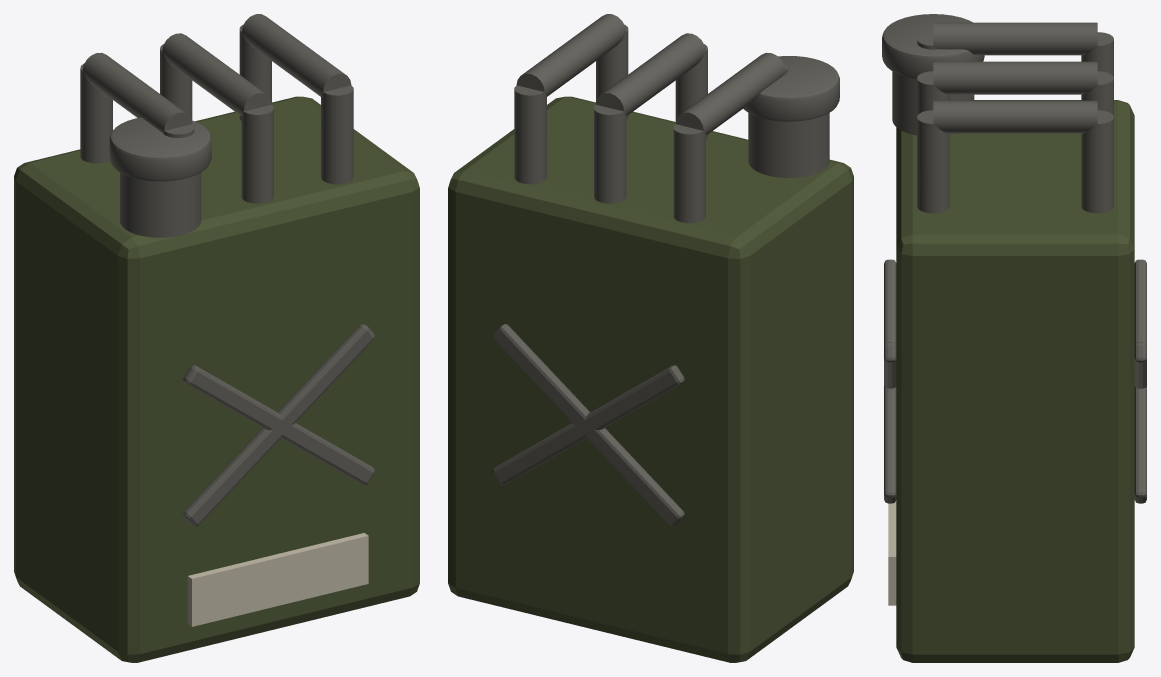
Rendered from canister.glb.
The picture shows the model from 3 angles, left to right: view 1: azimuth 30°, elevation 25°; view 2: azimuth 150°, elevation 25°; view 3: azimuth 270°, elevation 25°; orthographic projection.
Parts seen in each view (by area): view 1: CANISTER_Body, CANISTER_Label, CANISTER_Braces, CANISTER_Handle_2, CANISTER_Handle_1, CANISTER_Handle_0, CANISTER_Cap, CANISTER_Neck; view 2: CANISTER_Body, CANISTER_Braces, CANISTER_Handle_2, CANISTER_Handle_1, CANISTER_Handle_0, CANISTER_Neck, CANISTER_Cap; view 3: CANISTER_Body, CANISTER_Handle_2, CANISTER_Handle_1, CANISTER_Handle_0, CANISTER_Braces, CANISTER_Cap, CANISTER_Neck, CANISTER_Label.
Boxes of the visible parts, bbox=[...] form: CANISTER_Body: bbox=[14, 96, 419, 662]; CANISTER_Label: bbox=[187, 533, 368, 626]; CANISTER_Braces: bbox=[183, 324, 375, 526]; CANISTER_Handle_2: bbox=[239, 14, 353, 184]; CANISTER_Handle_1: bbox=[160, 33, 273, 203]; CANISTER_Handle_0: bbox=[80, 52, 194, 163]; CANISTER_Cap: bbox=[109, 117, 211, 181]; CANISTER_Neck: bbox=[120, 172, 201, 237]; CANISTER_Body: bbox=[448, 96, 853, 662]; CANISTER_Braces: bbox=[492, 324, 684, 526]; CANISTER_Handle_2: bbox=[514, 14, 628, 184]; CANISTER_Handle_1: bbox=[594, 33, 707, 203]; CANISTER_Handle_0: bbox=[673, 52, 787, 222]; CANISTER_Neck: bbox=[748, 113, 829, 177]; CANISTER_Cap: bbox=[743, 56, 839, 121]; CANISTER_Body: bbox=[896, 100, 1134, 662]; CANISTER_Handle_2: bbox=[917, 100, 1113, 213]; CANISTER_Handle_1: bbox=[917, 61, 1113, 116]; CANISTER_Handle_0: bbox=[917, 22, 1113, 77]; CANISTER_Braces: bbox=[884, 259, 1146, 503]; CANISTER_Cap: bbox=[882, 14, 984, 78]; CANISTER_Neck: bbox=[892, 71, 974, 135]; CANISTER_Label: bbox=[888, 500, 896, 605].
Bounding box in the file's own units: 0.17 × 0.286 × 0.129.
